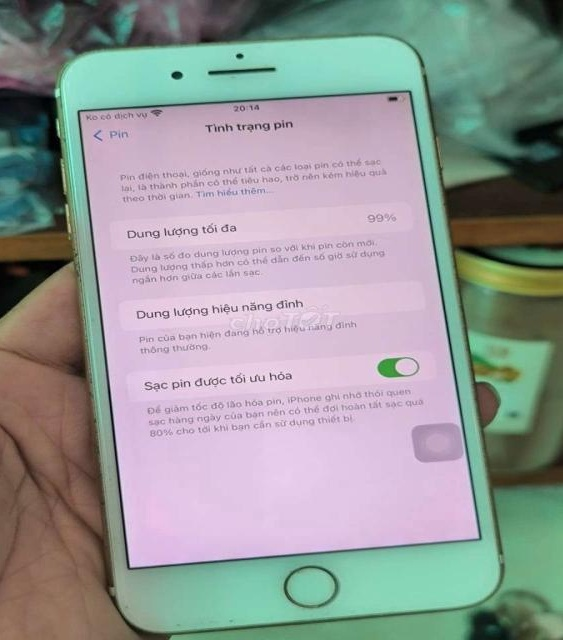scratch: (114, 594, 370, 630), (81, 31, 249, 55), (84, 355, 108, 475), (64, 240, 87, 289), (456, 543, 486, 569), (284, 560, 319, 577), (215, 73, 249, 83)
